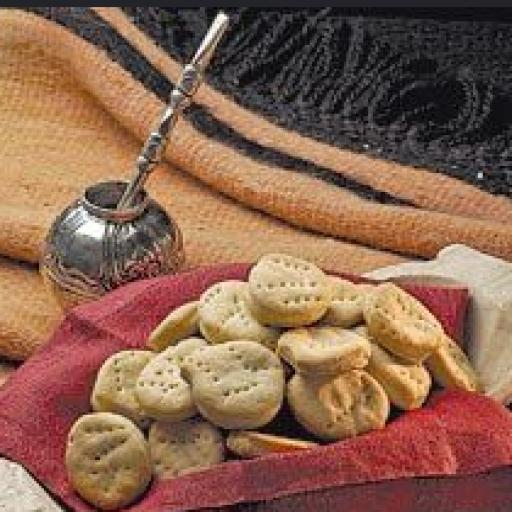bolleria: (66, 254, 477, 509)
mate: (35, 160, 182, 282)
